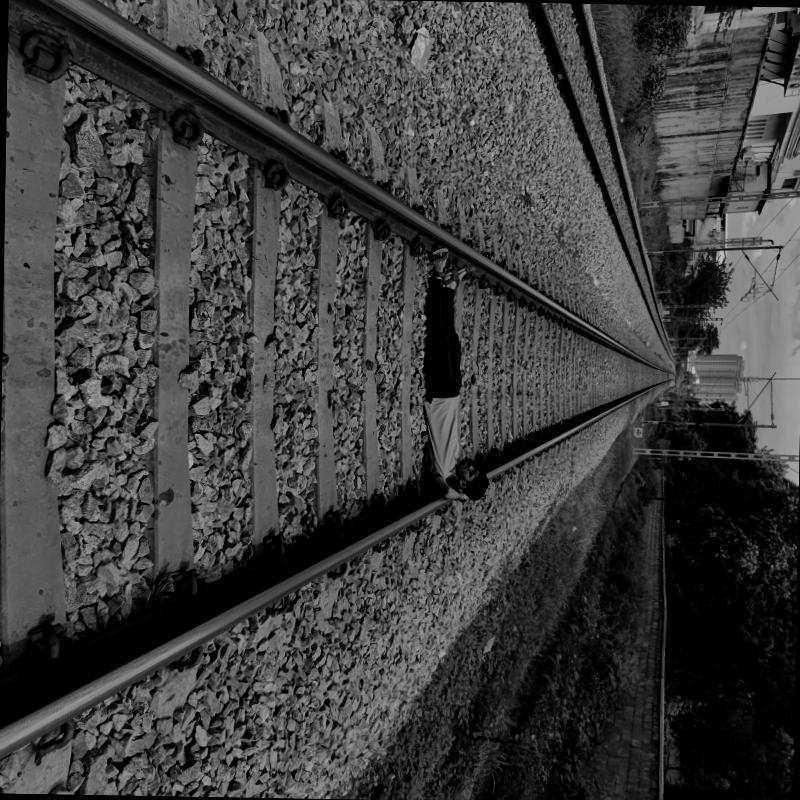sleeping: (418, 238, 490, 511)
